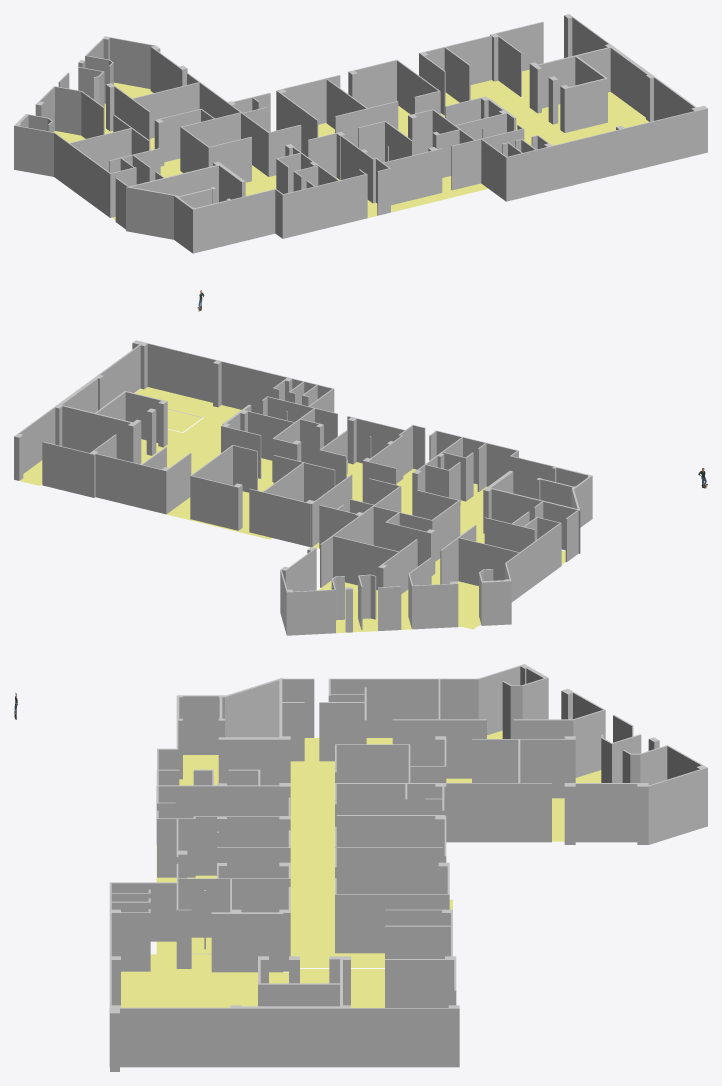
The model's file is 3RD FLOOR.fbx.
3 renders of one model, top to bottom at view 1: azimuth 30°, elevation 25°; view 2: azimuth 150°, elevation 25°; view 3: azimuth 270°, elevation 25°, orthographic. The views are drawn at different scales.
Parts seen in each view (by area): view 1: Group173, Group26, Group12, Group11, Group171, Group22, Group161, Group52, Group6, Group23, Group165, Group15 (+54 smaller); view 2: Group173, Group22, Group12, Group70, Group18, Group161, Group11, Group26, Group54, Group45, Group160, Group170 (+47 smaller); view 3: Group173, Group55, Group56, Group165, Group122, Group161, Group28, Group22, Group75, Group152, Group53, Group27 (+41 smaller).
Part boxes in pixels (x1,y1,x2,y2): Group173: (54,69,648,220); Group26: (126,165,217,239); Group12: (625,111,695,172); Group11: (553,129,620,189); Group171: (481,139,547,201); Group22: (114,82,199,140); Group161: (54,132,110,217); Group52: (54,86,104,138); Group6: (231,189,275,243); Group23: (110,37,155,88); Group165: (610,47,650,117); Group15: (569,78,607,131); Group173: (20,387,565,633); Group22: (333,535,417,593); Group12: (147,343,216,402); Group70: (95,453,161,512); Group18: (249,488,305,545); Group161: (505,523,560,602); Group11: (221,361,287,413); Group26: (491,488,580,553); Group54: (42,441,89,496); Group45: (191,475,233,529); Group160: (293,589,335,635); Group170: (458,537,519,585); Group173: (121,730,601,1007); Group55: (121,1007,230,1067); Group56: (446,783,551,842); Group165: (241,1006,339,1067); Group122: (351,1008,448,1067); Group161: (330,678,478,737); Group28: (335,847,442,893); Group22: (472,739,564,798); Group75: (211,913,283,972); Group152: (336,894,447,953); Group53: (575,783,637,842); Group27: (392,719,486,778).
Bounding box in the file's own units: 45.45 × 3.52 × 37.58.
